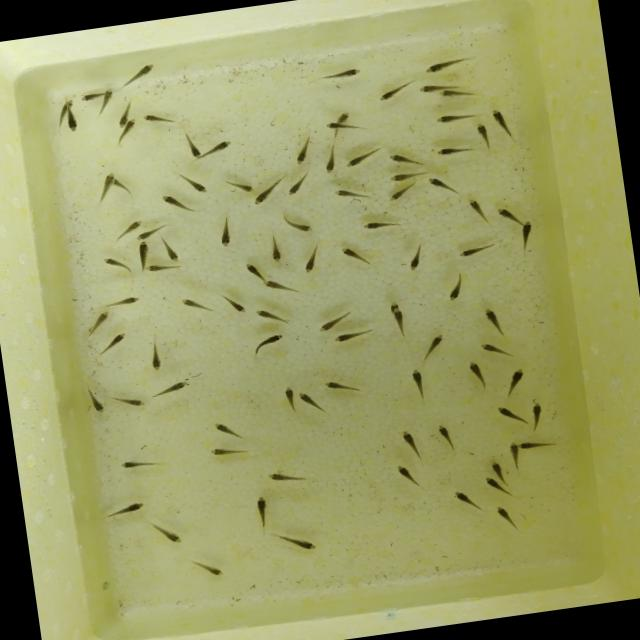fingerling: (453, 484, 490, 518), (210, 215, 238, 252), (493, 403, 531, 430), (335, 182, 376, 207), (250, 178, 284, 208), (402, 238, 430, 274), (154, 520, 187, 550), (116, 452, 162, 473), (220, 288, 252, 318), (282, 532, 322, 556), (426, 174, 462, 200), (174, 290, 213, 314), (420, 332, 450, 363), (432, 109, 478, 129), (456, 240, 502, 260), (194, 556, 228, 582), (342, 148, 382, 170), (295, 388, 324, 418), (396, 428, 422, 461), (299, 242, 324, 276), (248, 493, 273, 527), (421, 56, 468, 74), (502, 370, 530, 400), (287, 212, 320, 237), (254, 304, 288, 328), (515, 219, 539, 253), (261, 274, 295, 298), (179, 172, 210, 198), (477, 338, 512, 361), (105, 500, 145, 520), (125, 60, 158, 84), (378, 82, 414, 104), (396, 462, 422, 492), (242, 260, 272, 286), (86, 310, 116, 336), (389, 150, 426, 171), (467, 361, 489, 396), (516, 436, 558, 454), (388, 168, 434, 184), (250, 334, 286, 354), (494, 504, 518, 534), (320, 66, 360, 84), (157, 190, 189, 212), (330, 328, 374, 344), (84, 386, 106, 418), (446, 274, 468, 306), (385, 307, 407, 339), (481, 472, 508, 498), (495, 204, 522, 230), (363, 216, 404, 233), (490, 106, 513, 136), (210, 442, 248, 460), (338, 243, 369, 265), (158, 378, 192, 398), (291, 142, 315, 170), (132, 238, 153, 270), (94, 168, 116, 198), (436, 142, 472, 160), (528, 398, 548, 430), (101, 330, 130, 352), (483, 304, 504, 334), (145, 109, 179, 127), (112, 217, 146, 235), (262, 468, 300, 484), (212, 420, 242, 440), (332, 111, 352, 141), (97, 254, 127, 274), (282, 383, 299, 418), (203, 138, 236, 156), (388, 183, 419, 202), (116, 394, 150, 411), (320, 316, 352, 334), (185, 132, 204, 162), (467, 197, 488, 224), (436, 424, 456, 452), (438, 85, 478, 99), (418, 82, 461, 95), (160, 238, 183, 262), (146, 342, 164, 372), (267, 238, 285, 268), (106, 294, 144, 308), (136, 226, 166, 243), (412, 366, 430, 394), (322, 378, 353, 394), (322, 119, 357, 133), (477, 121, 492, 153), (54, 99, 75, 120), (506, 441, 521, 470), (286, 178, 306, 198), (100, 90, 116, 114), (146, 262, 178, 274), (232, 181, 254, 198), (80, 90, 108, 103), (324, 154, 339, 177), (490, 460, 506, 481), (66, 108, 79, 132), (123, 118, 136, 136), (118, 112, 130, 129)
